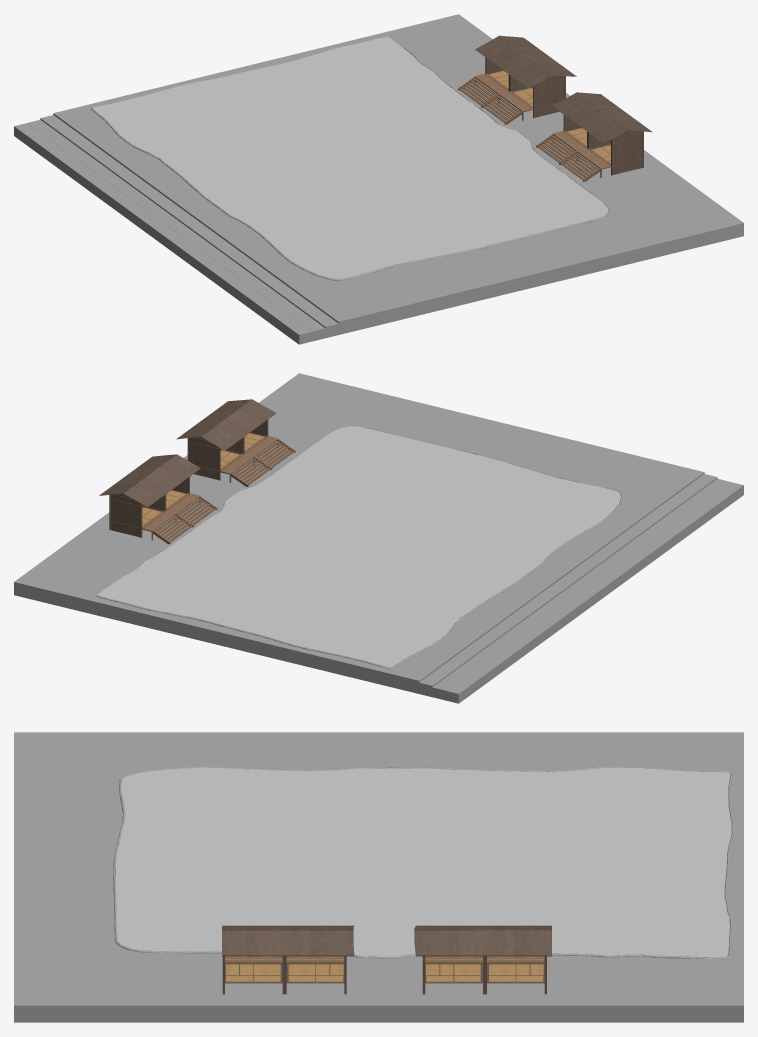
Rendered from FullGarden.fbx.
3 views of the same model, one above another, from view 1: azimuth 30°, elevation 25°; view 2: azimuth 150°, elevation 25°; view 3: azimuth 270°, elevation 25° (orthographic). The views are drawn at different scales.
Visible parts, largest first — view 1: Object004, Box006, Object001, RoofTop, Line003; view 2: Object004, Box006, Object001, RoofTop, Line003; view 3: Object004, Box006, RoofTop, Object001, Line003.
Boxes of the visible parts, x1,y1,x2,y2 form: Object004: (93,37,608,278); Box006: (14,14,743,344); Object001: (458,57,643,181); RoofTop: (475,35,651,143); Line003: (90,36,610,280); Object004: (95,426,620,667); Box006: (14,373,743,703); Object001: (109,419,295,544); RoofTop: (99,399,276,507); Line003: (95,425,622,669); Object004: (116,767,731,957); Box006: (14,732,743,1022); RoofTop: (222,925,551,956); Object001: (222,947,546,994); Line003: (113,766,733,958).
Size of the model in its own units: 4970 by 590 by 5519.
